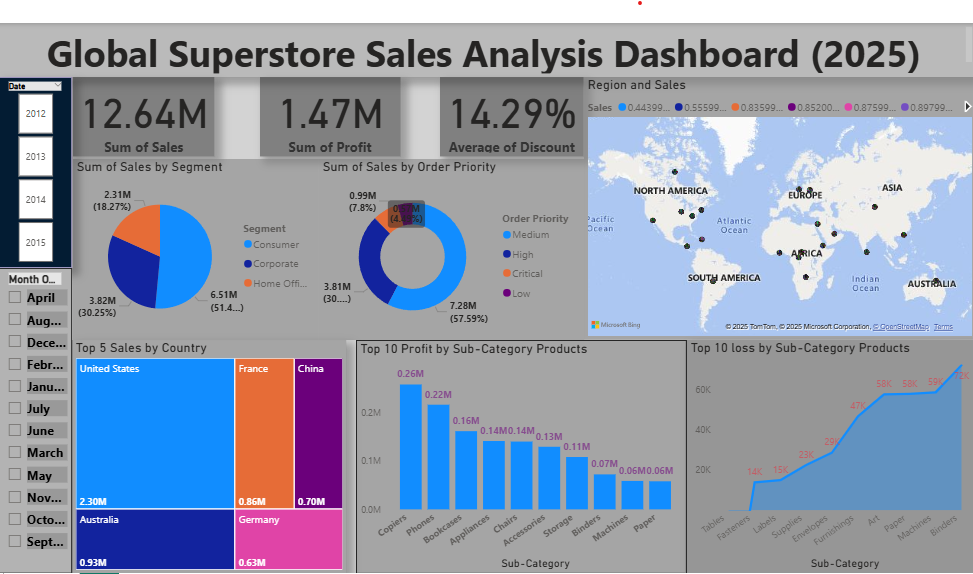

Layout of this report page (visuals, bound fields, positions):
{"tool":"powerbi","page":{"name":"Page 1","canvas":[1280,720],"ordinal":0},"visuals":[{"type":"card","fields":{"Values":["Sum(Orders.Profit)"]},"box":[342.4,70.5,183.7,104.3],"z":0},{"type":"card","fields":{"Values":["Sum(Orders.Sales)"]},"box":[98.4,70.5,185.1,104.3],"z":1000},{"type":"card","fields":{"Values":["Avg(Orders.Discount)"]},"box":[578.9,70.5,188.1,104.3],"z":2000},{"type":"textbox","box":[0,0,1279.8,70.5],"z":3000},{"type":"pieChart","fields":{"Category":["Orders.Segment"],"Y":["Sum(Orders.Sales)"]},"box":[98.4,177.8,321.8,236.6],"z":4000},{"type":"shape","box":[0,70.7,96.9,649.3],"z":5000},{"type":"donutChart","fields":{"Y":["Sum(Orders.Sales)"],"Category":["Orders.Order Priority"]},"box":[420.2,177.8,346.8,236.6],"z":6000},{"type":"map","fields":{"Series":["Orders.Sales"],"Category":["Orders.Region"]},"box":[767,70.5,512.8,343.8],"z":7000},{"type":"slicer","fields":{"Values":["Orders.Date"]},"box":[0,70.7,96.9,250],"z":8000},{"type":"treemap","title":"Top 5 Sales by Country","fields":{"Group":["Orders.Country"],"Values":["Sum(Orders.Sales)"]},"box":[97.4,414.9,359.5,305.7],"z":9000},{"type":"clusteredColumnChart","title":"Top 10 Profit by Sub-Category Products","fields":{"Category":["Orders.Sub-Category"],"Y":["Sum(Orders.Profit)"]},"box":[468.7,414.9,433.4,305.7],"z":10000},{"type":"areaChart","title":"Top 10 loss by Sub-Category Products","fields":{"Category":["Orders.Sub-Category"],"Y":["Sum(Orders.Profit)"]},"box":[902,414.9,378,305.7],"z":11000},{"type":"slicer","fields":{"Values":["Orders.Order Month"]},"box":[0,320.3,97,399.7],"z":12000}]}

Visuals, with their boxes on the page's 1280x720 design canvas (x1, y1, x2, y2). These are canvas units, not pixel positions in the 973x574 screenshot, which may show the page scaled, cropped or inside an application window:
card - Sum(Orders.Profit): box=[342, 70, 526, 175]
card - Sum(Orders.Sales): box=[98, 70, 284, 175]
card - Avg(Orders.Discount): box=[579, 70, 767, 175]
textbox: box=[0, 0, 1280, 70]
pieChart - Orders.Segment x Sum(Orders.Sales): box=[98, 178, 420, 414]
shape: box=[0, 71, 97, 720]
donutChart - Sum(Orders.Sales) x Orders.Order Priority: box=[420, 178, 767, 414]
map - Orders.Sales x Orders.Region: box=[767, 70, 1280, 414]
slicer - Orders.Date: box=[0, 71, 97, 321]
"Top 5 Sales by Country" treemap: box=[97, 415, 457, 721]
"Top 10 Profit by Sub-Category Products" clusteredColumnChart: box=[469, 415, 902, 721]
"Top 10 loss by Sub-Category Products" areaChart: box=[902, 415, 1280, 721]
slicer - Orders.Order Month: box=[0, 320, 97, 720]
